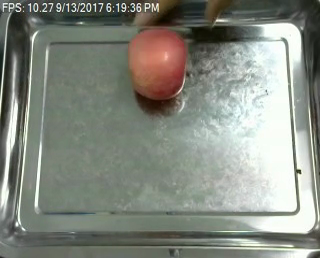Apple: (124, 24, 190, 102)
